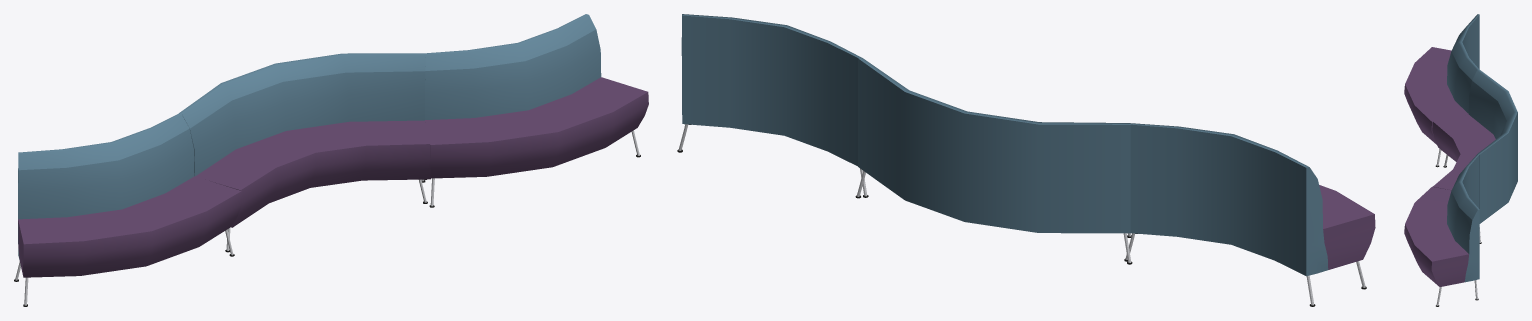
Rendered from big_sofa1.fbx.
3 views of the same model, side by side, from view 1: azimuth 30°, elevation 25°; view 2: azimuth 150°, elevation 25°; view 3: azimuth 270°, elevation 25° (orthographic). The views are drawn at different scales.
Visible parts, largest first — view 1: big_sofa1; view 2: big_sofa1; view 3: big_sofa1.
Boxes of the visible parts, x1=… form: big_sofa1: x1=14, y1=14, x2=648, y2=306; big_sofa1: x1=677, y1=14, x2=1375, y2=306; big_sofa1: x1=1404, y1=14, x2=1517, y2=306.
Bounding box in the file's own units: 0.0282 × 0.00543 × 0.0063.
Materials: 1 (1 with a texture image).
